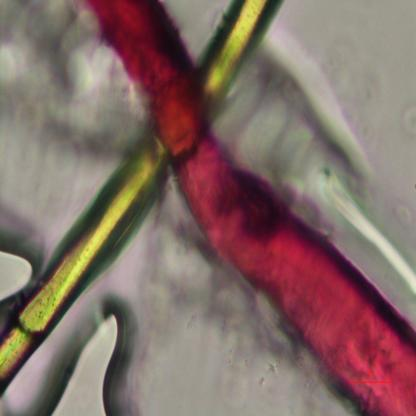Air bubble: (48, 291, 140, 414), (0, 243, 36, 302)
Background material: (244, 53, 368, 215), (0, 4, 124, 152), (158, 235, 276, 366)
Microfibre: (85, 0, 416, 415), (1, 135, 168, 391), (198, 0, 277, 108)
